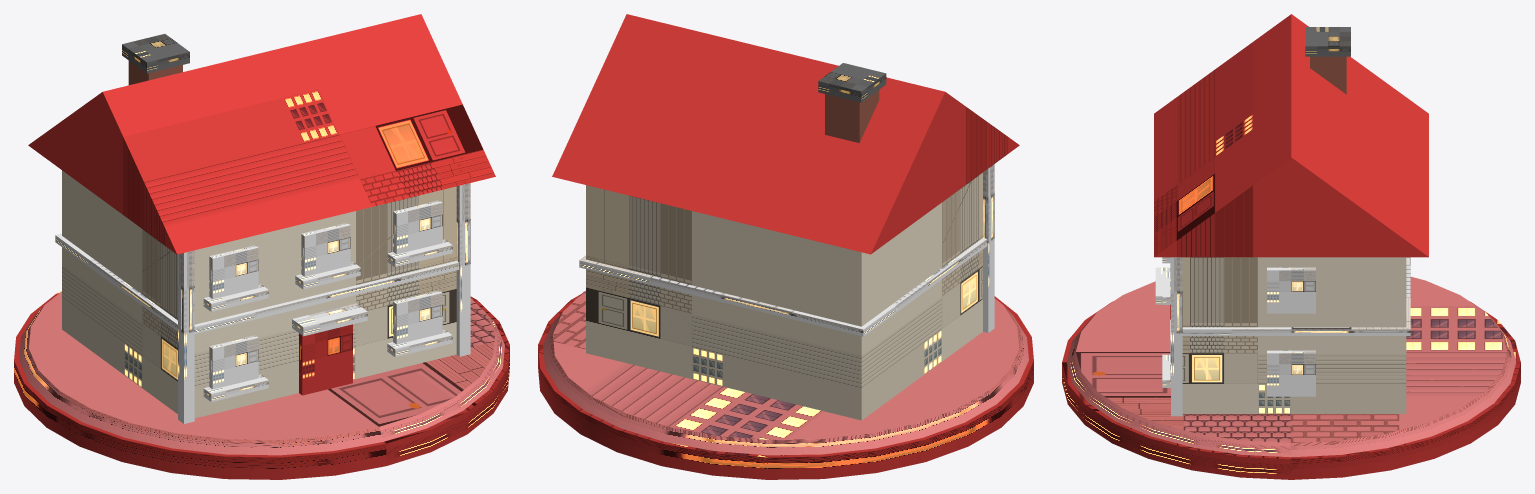
File: tier-06-house.glb
The picture shows the model from 3 angles, left to right: view 1: azimuth 30°, elevation 25°; view 2: azimuth 150°, elevation 25°; view 3: azimuth 270°, elevation 25°; orthographic projection. The views are drawn at different scales.
Visible parts, largest first — view 1: toon; view 2: toon; view 3: toon.
Boxes of the visible parts, x1=… form: toon: x1=14, y1=14, x2=509, y2=479; toon: x1=538, y1=14, x2=1033, y2=479; toon: x1=1062, y1=14, x2=1520, y2=479.
Size of the model in its own units: 1 by 0.74 by 1.
Materials: 1 (1 with a texture image).
